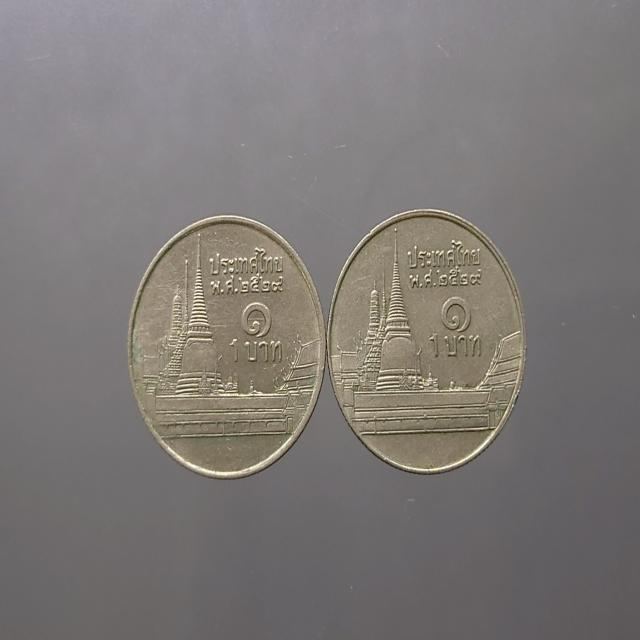1 Bath: (123, 204, 328, 487), (329, 205, 534, 486)
